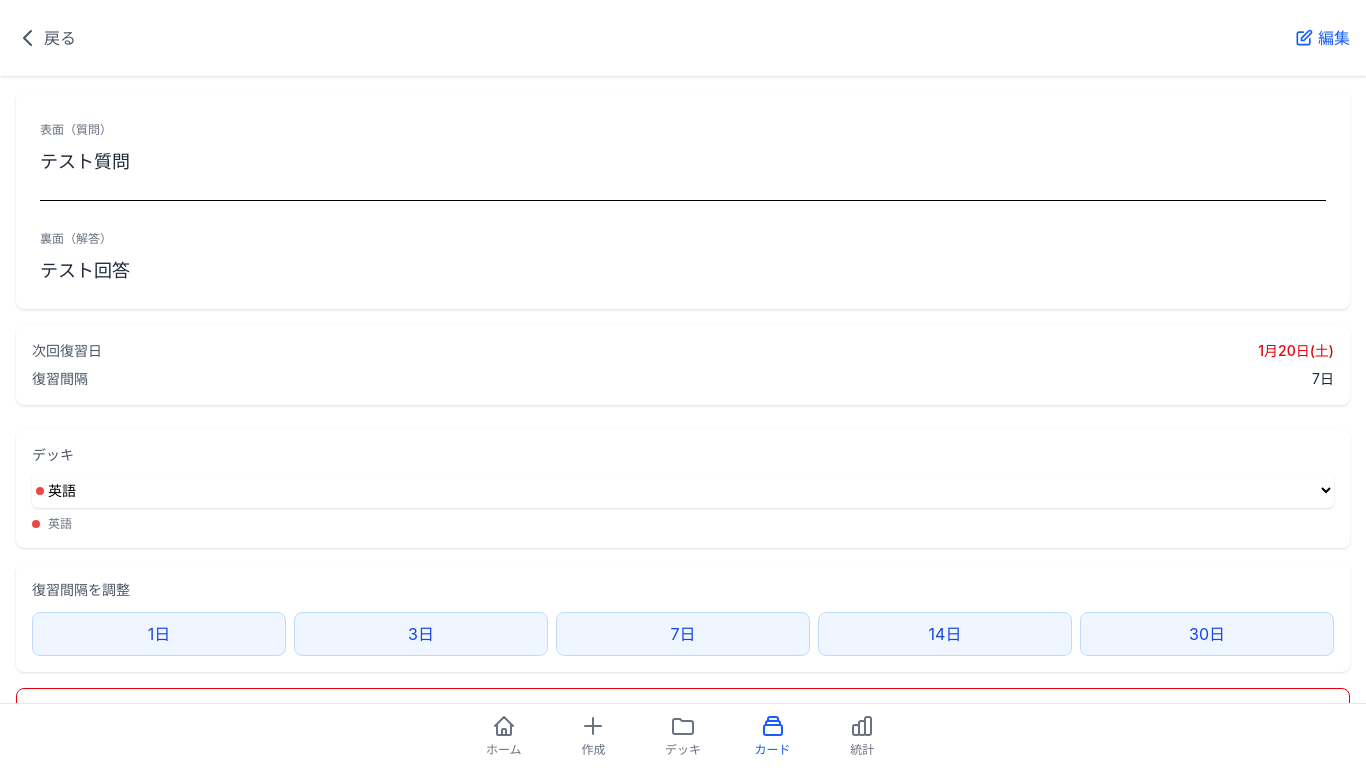
Test case: CardDetailPage › テストケース3: 編集のキャンセル › キャンセルボタンで表示モードに戻る
Click the button with test id "edit-button" at (1322, 38), box x1=1294 y1=16 x2=1350 y2=60
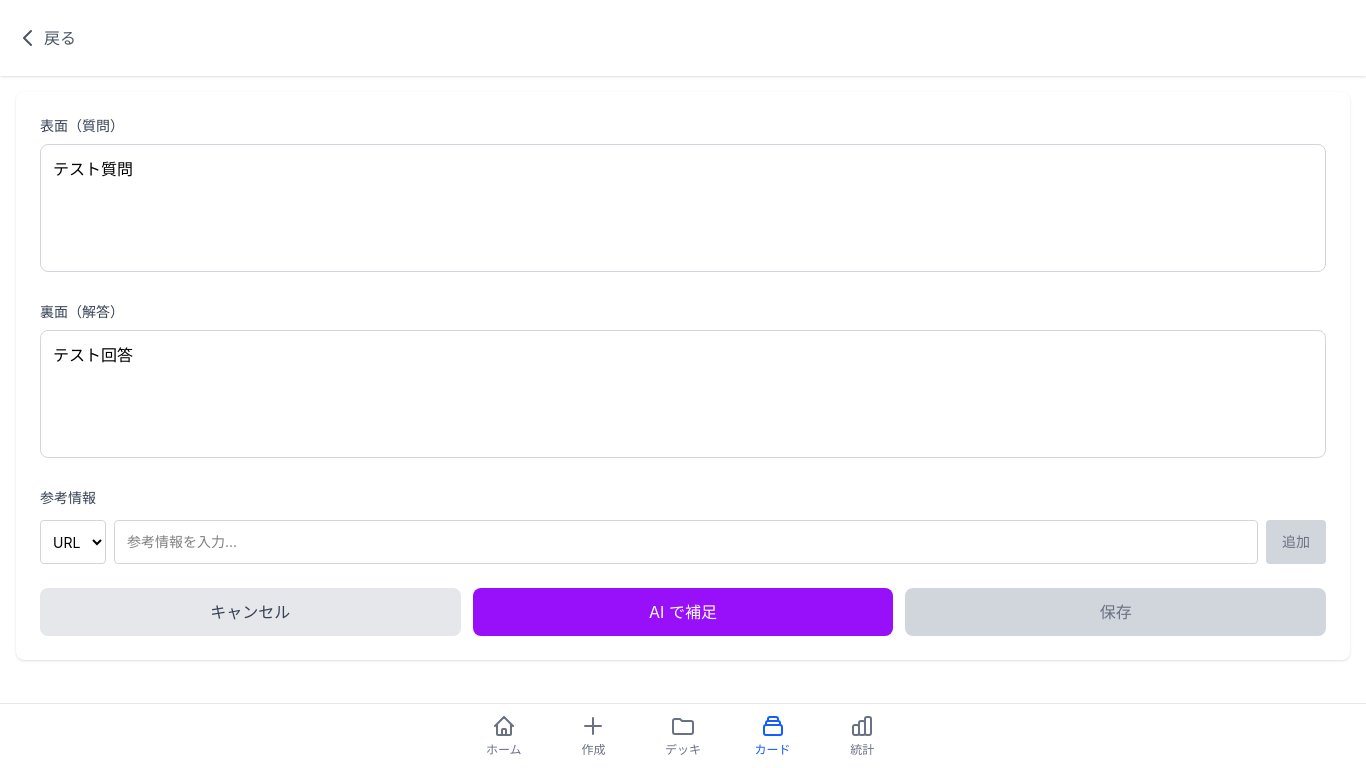
Check: the form with test id "card-form" is shown
Click the button with test id "cancel-button" at (250, 612), box x1=40 y1=588 x2=461 y2=636
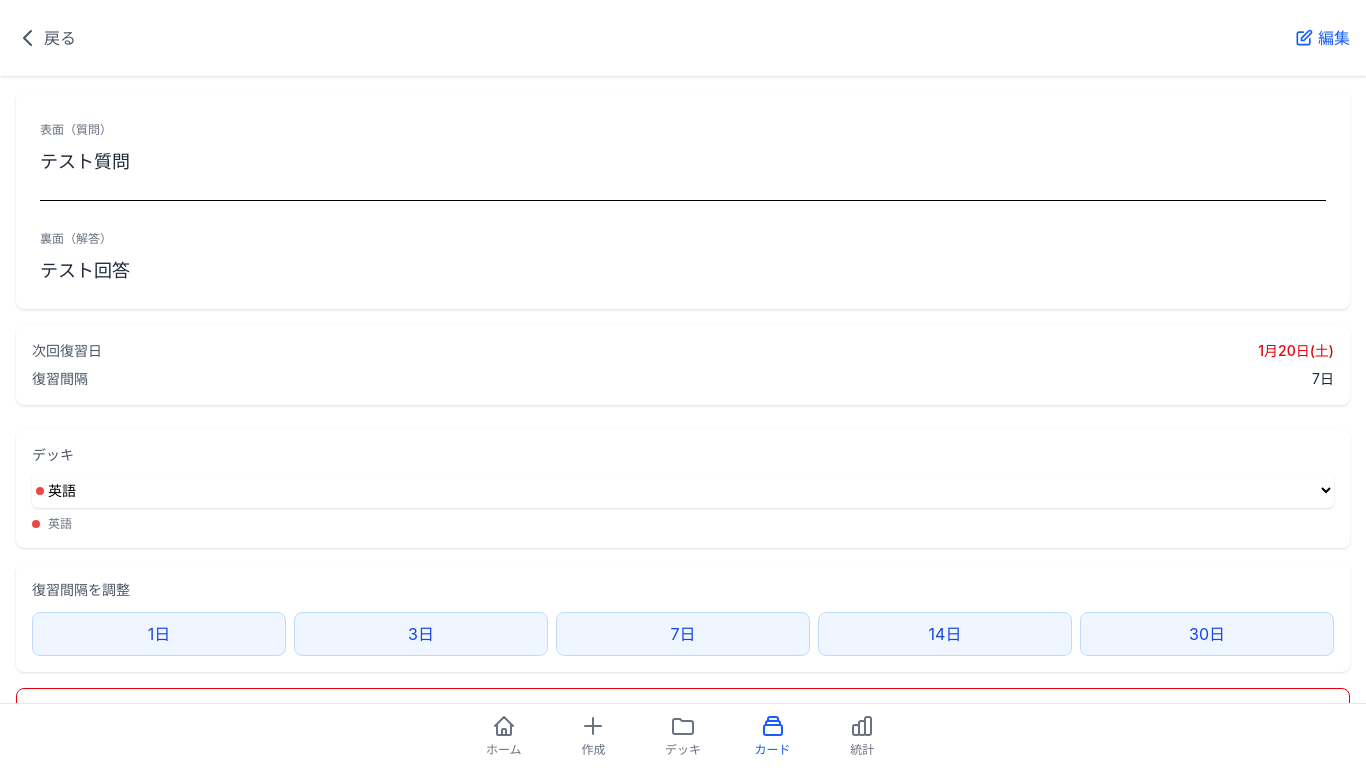
Check: the element with test id "card-detail" is shown, box x1=16 y1=92 x2=1350 y2=309
Check: the form with test id "card-form" is gone
